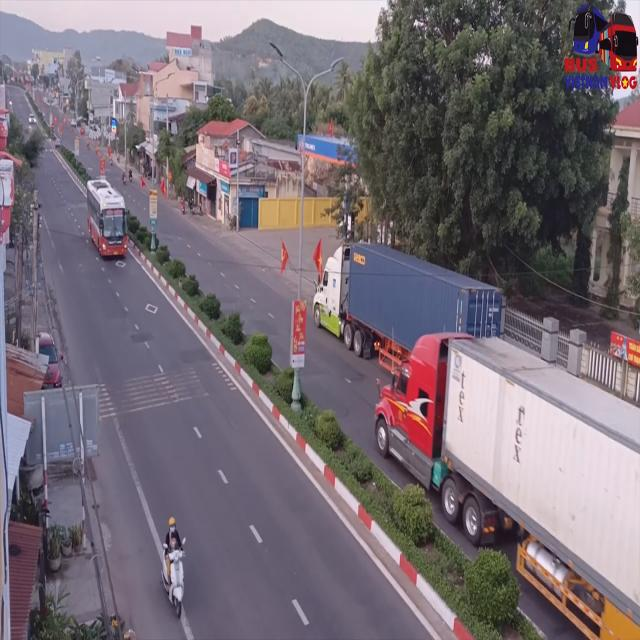bus: (86, 180, 128, 262)
motorbike: (162, 516, 186, 620)
truck: (376, 334, 640, 640), (315, 246, 499, 388)
